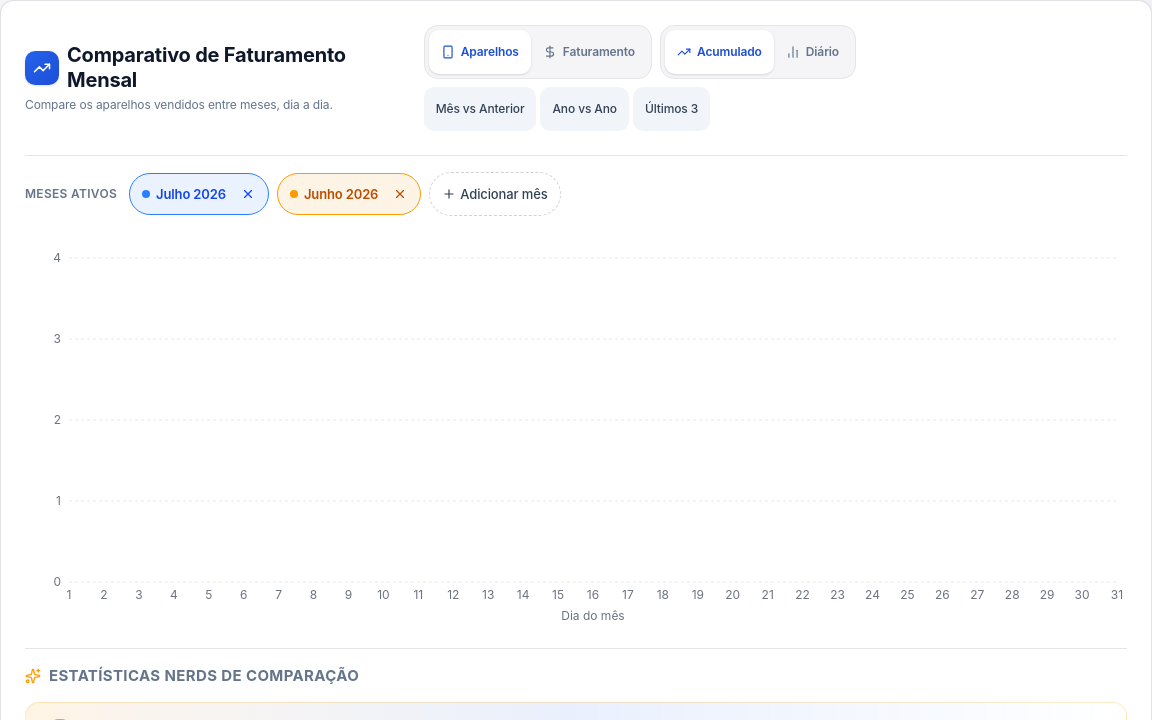
Test: MonthlyRevenueComparisonChart › switches the whole comparison between aparelhos and faturamento
This screenshot has width=1152, height=720.
Click the button "Faturamento": (589, 52) [531, 30, 647, 74]
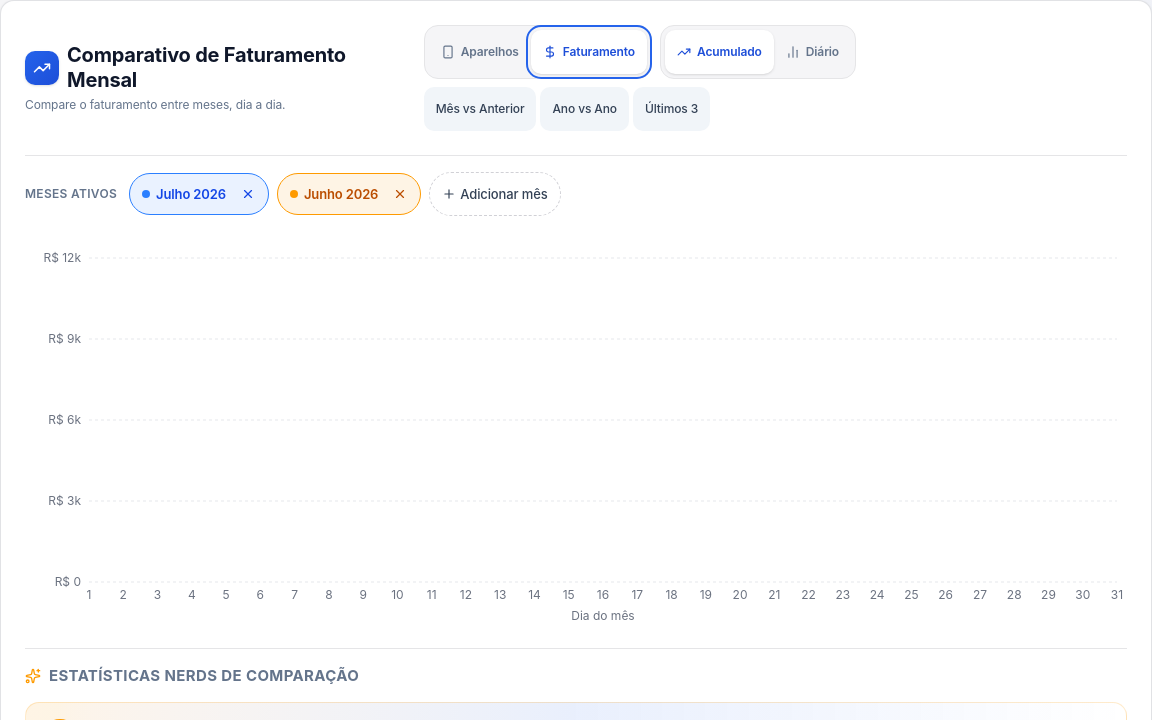
Result: the text "Compare o faturamento entre meses, dia a dia." is shown at [25, 97, 285, 112]
